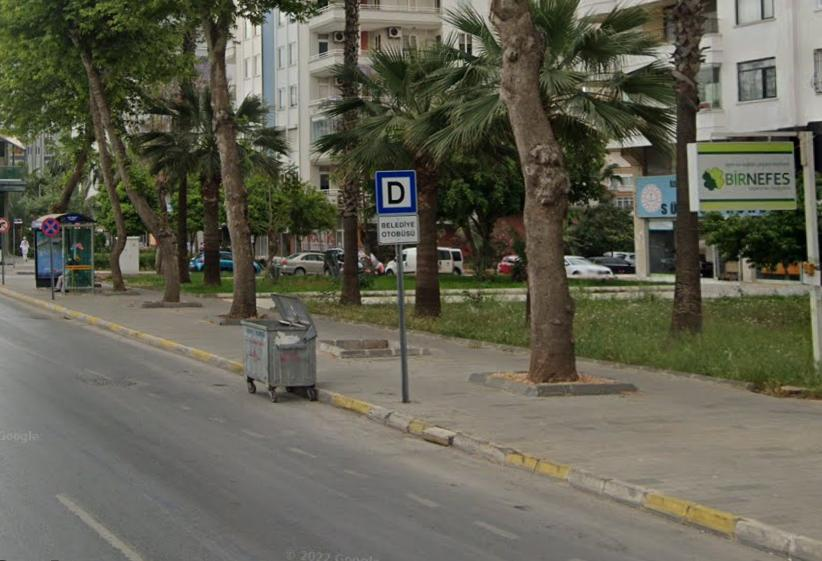station: (383, 176, 412, 206)
